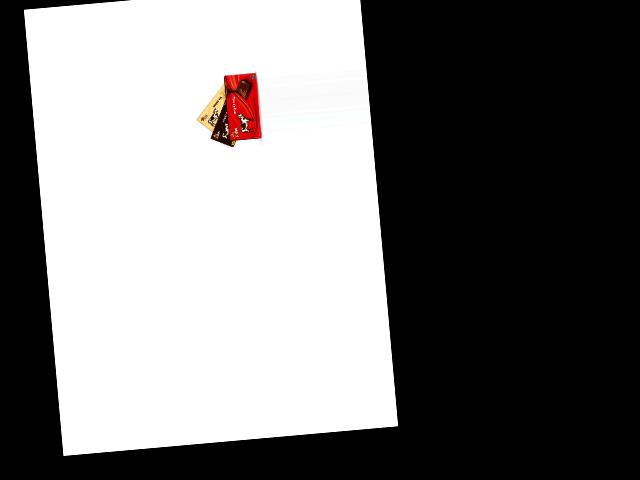chocolate: (192, 77, 235, 140)
